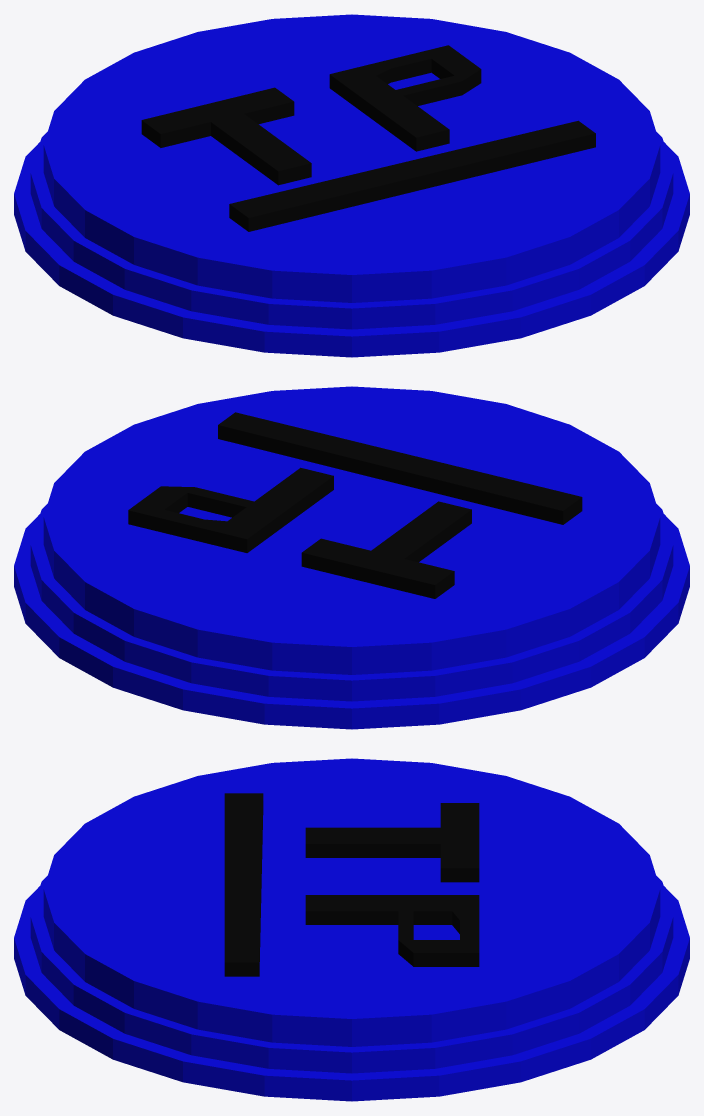
The model's file is TPPad.fbx.
3 views of the same model, one above another, from view 1: azimuth 30°, elevation 25°; view 2: azimuth 150°, elevation 25°; view 3: azimuth 270°, elevation 25° (orthographic).
Visible parts, largest first — view 1: TP_Pad, pCube1, P, T; view 2: TP_Pad, pCube1, P, T; view 3: TP_Pad, P, T, pCube1.
Part boxes in pixels (x1=…): TP_Pad: x1=14, y1=14, x2=689, y2=357; pCube1: x1=229, y1=120, x2=595, y2=231; P: x1=329, y1=45, x2=481, y2=151; T: x1=141, y1=87, x2=311, y2=185; TP_Pad: x1=14, y1=386, x2=689, y2=729; pCube1: x1=218, y1=412, x2=582, y2=524; P: x1=128, y1=467, x2=333, y2=552; T: x1=301, y1=501, x2=471, y2=598; TP_Pad: x1=14, y1=758, x2=689, y2=1101; P: x1=305, y1=895, x2=479, y2=966; T: x1=305, y1=803, x2=479, y2=882; pCube1: x1=224, y1=793, x2=263, y2=976.
Size of the model in its own units: 4.38 by 0.6 by 4.38.
